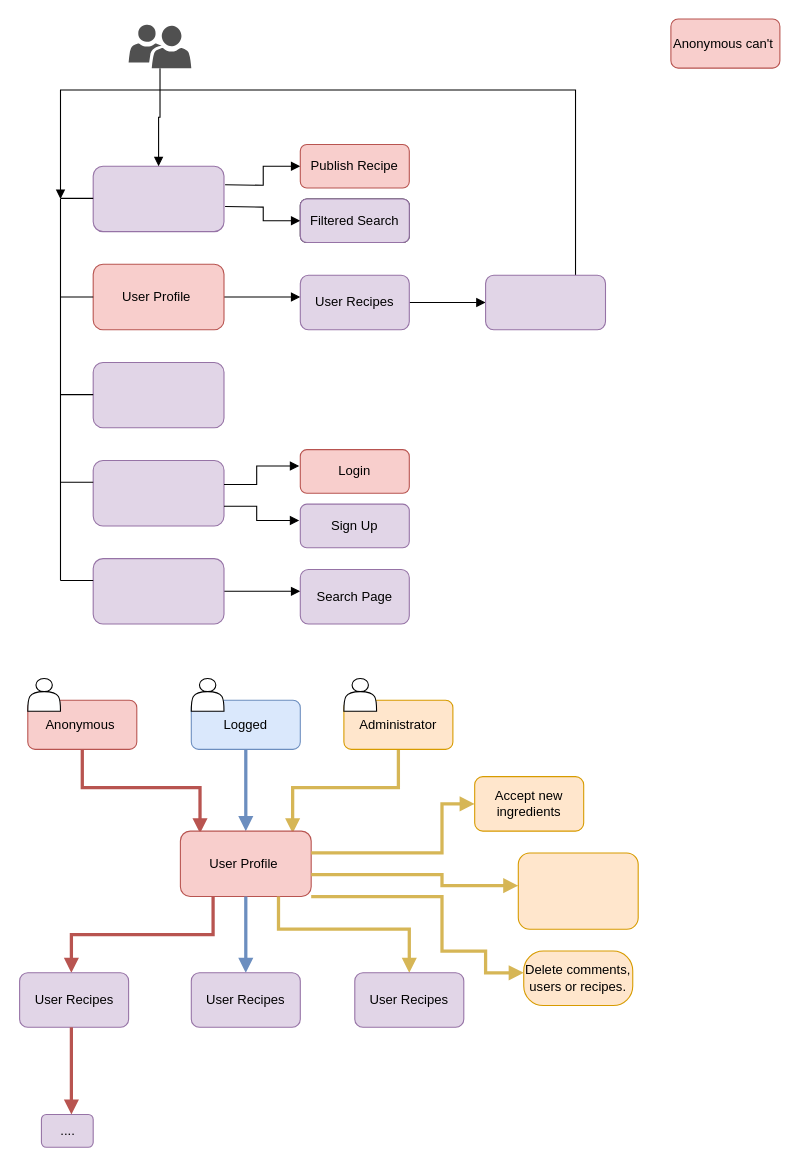
This 799x1166 diagram has some shape labels left out. The shapes that lost their labels are listed below. From the top down, each one's centre as x and y in pixels, then its label:
At [158,198]: "Home".
At [545,302]: "Recipe Page".
At [158,394]: "Ranking".
At [158,492]: "Login/Sign Up".
At [158,591]: "Search User/Recipe".
At [577,890]: "Accept new ingredients, categories and cooking styles".
